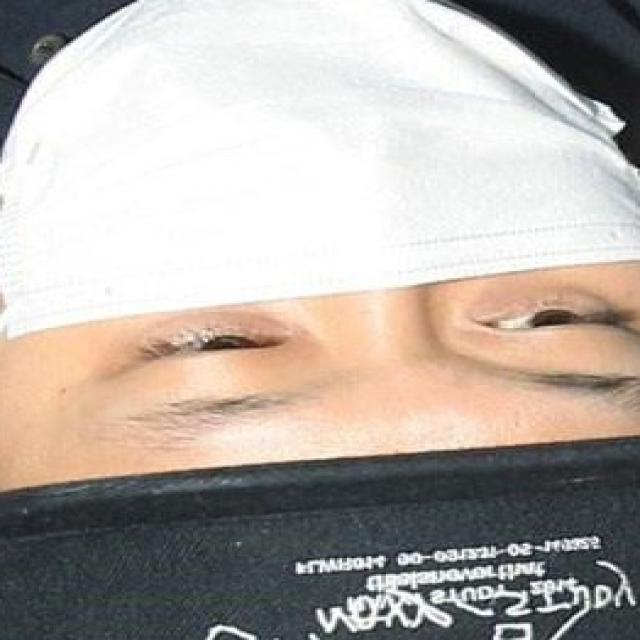mask: (19, 12, 632, 386)
